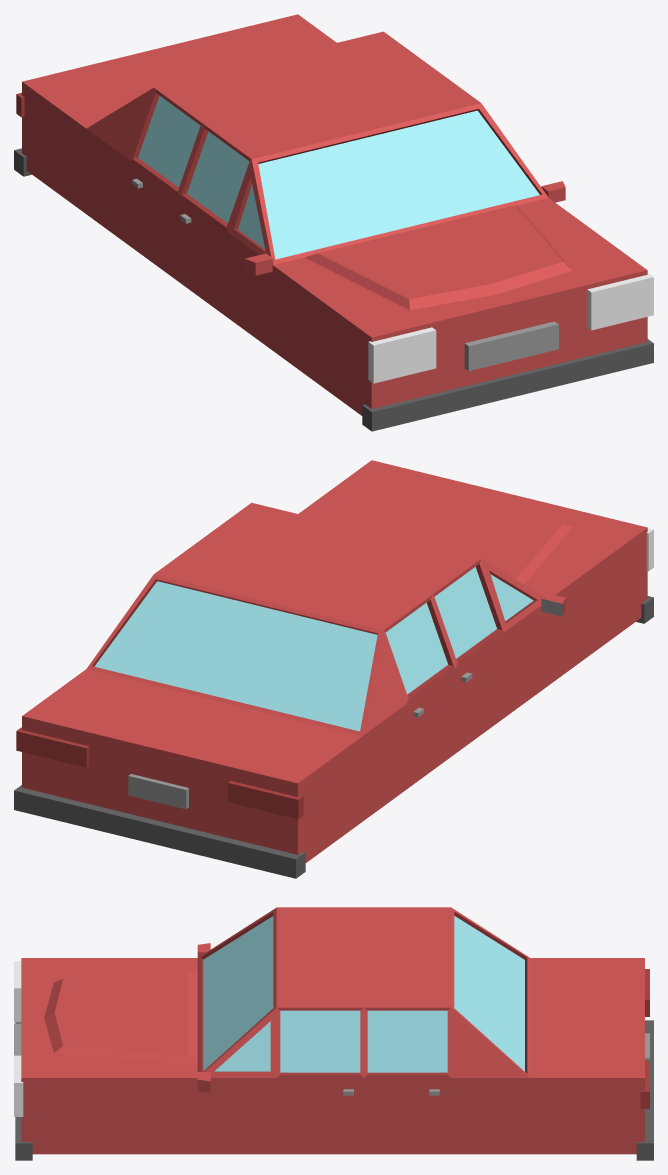
File: Car.fbx
3 renders of one model, top to bottom at view 1: azimuth 30°, elevation 25°; view 2: azimuth 150°, elevation 25°; view 3: azimuth 270°, elevation 25°, orthographic. The views are drawn at different scales.
Visible parts, largest first — view 1: Car; view 2: Car; view 3: Car.
Boxes of the visible parts, bbox=[...] form: Car: bbox=[14, 14, 653, 431]; Car: bbox=[14, 460, 653, 878]; Car: bbox=[14, 907, 653, 1160].
Size of the model in its own units: 1.66 by 0.7904 by 3.24.
